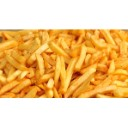frenchfries: (1, 29, 127, 99)
